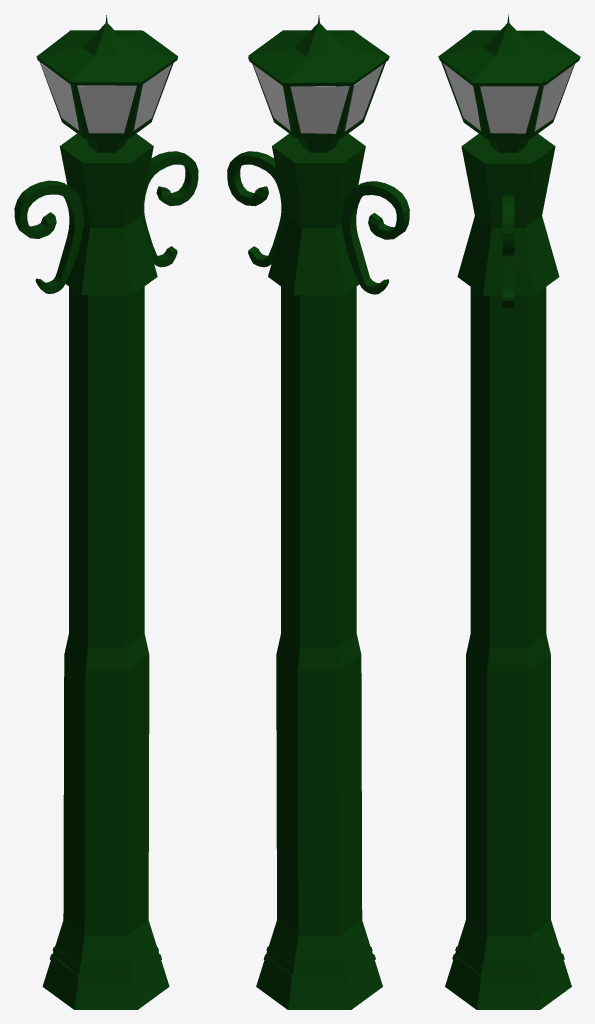
The model's file is Lampu.fbx.
3 renders of one model, left to right at view 1: azimuth 30°, elevation 25°; view 2: azimuth 150°, elevation 25°; view 3: azimuth 270°, elevation 25°, orthographic.
Visible parts, largest first — view 1: Lampu; view 2: Lampu; view 3: Lampu.
Boxes of the visible parts, x1,y1,x2,y2 form: Lampu: (14,15,198,1009); Lampu: (227,15,409,1009); Lampu: (438,14,580,1009).
Size of the model in its own units: 214 by 1122 by 149.
